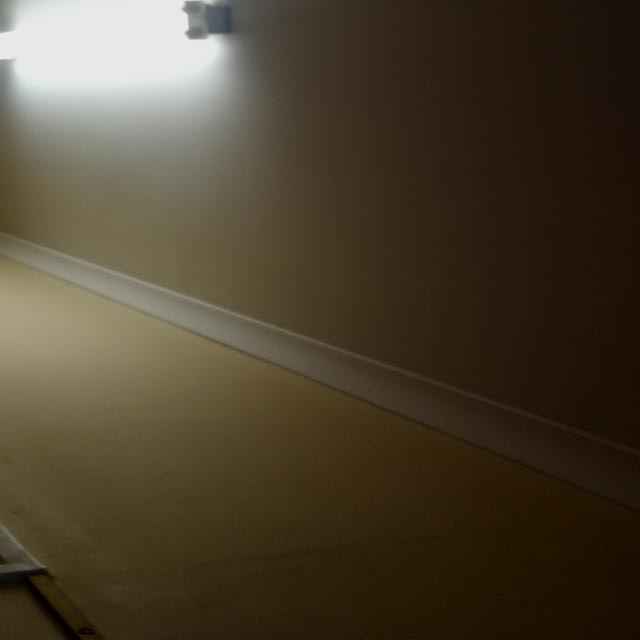fluorescent tube: (0, 0, 240, 104)
